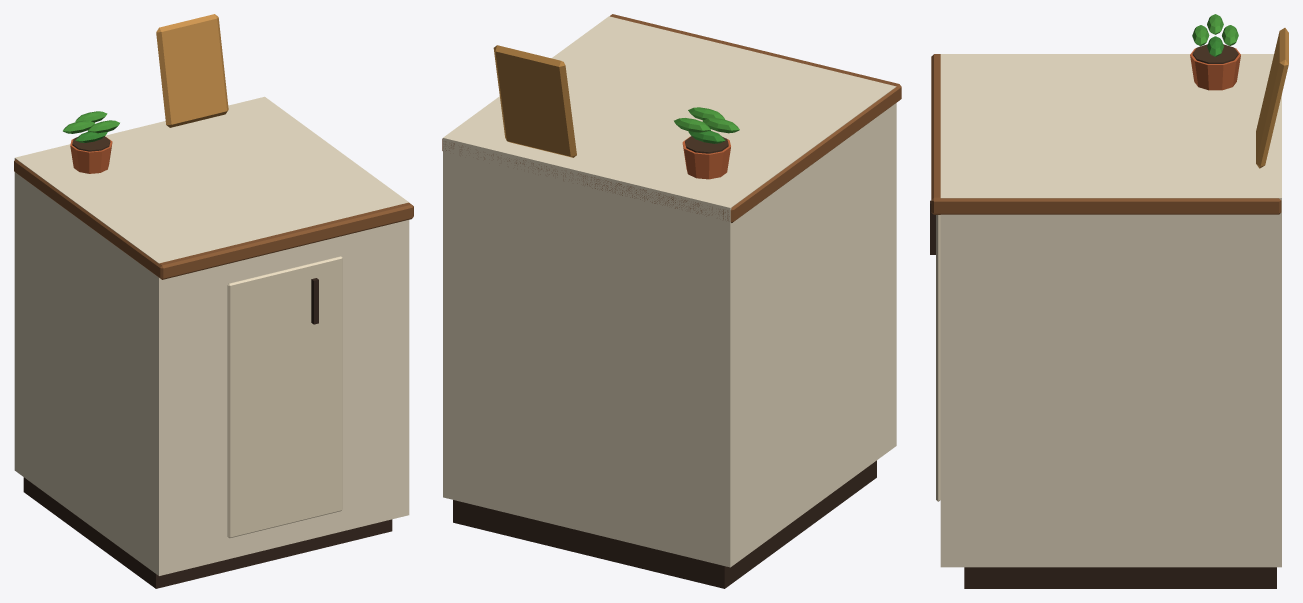
Rendered from counter_corner.fbx.
3 views of the same model, side by side, from view 1: azimuth 30°, elevation 25°; view 2: azimuth 150°, elevation 25°; view 3: azimuth 270°, elevation 25° (orthographic). The views are drawn at different scales.
Parts seen in each view (by area): view 1: counter_corner; view 2: counter_corner; view 3: counter_corner.
Boxes of the visible parts, left/top/right/bottom form: counter_corner: left=14, top=14, right=413, bottom=588; counter_corner: left=442, top=14, right=901, bottom=588; counter_corner: left=930, top=14, right=1288, bottom=588.
Size of the model in its own units: 0.73 by 1.18 by 0.7572.
